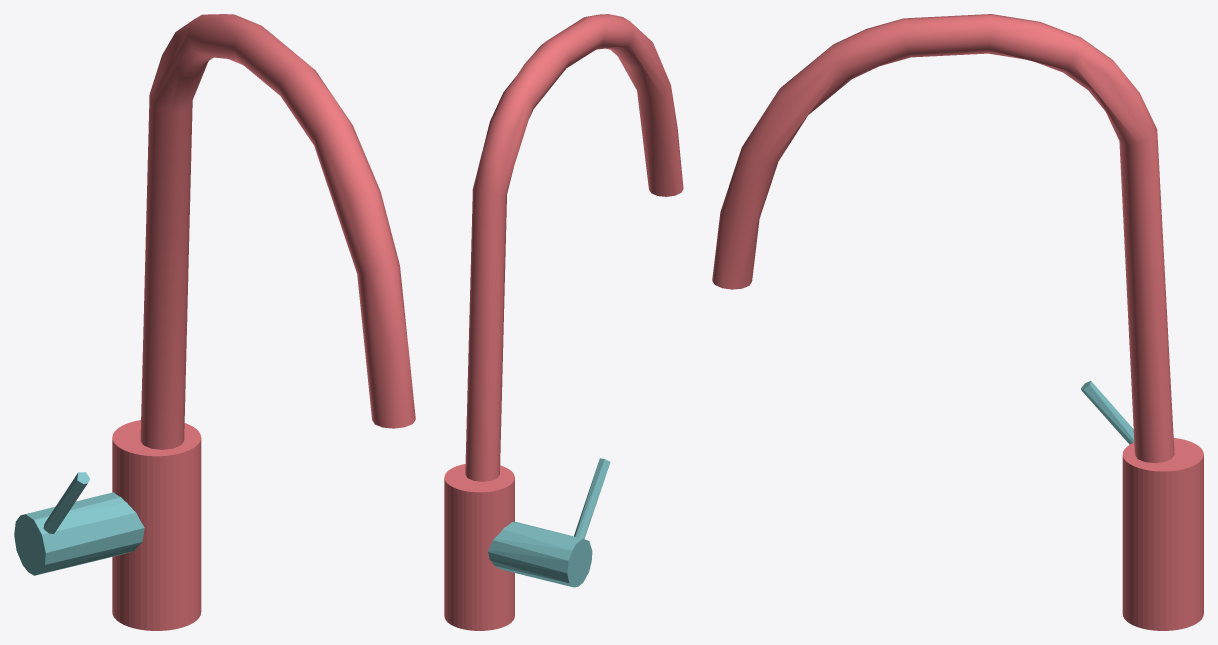
Rendered from Kran.fbx.
3 views of the same model, side by side, from view 1: azimuth 30°, elevation 25°; view 2: azimuth 150°, elevation 25°; view 3: azimuth 270°, elevation 25° (orthographic). The views are drawn at different scales.
Parts seen in each view (by area): view 1: Куб.001; view 2: Куб.001; view 3: Куб.001.
Boxes of the visible parts, x1,y1,x2,y2 form: Куб.001: [14, 14, 415, 630]; Куб.001: [444, 14, 683, 630]; Куб.001: [712, 14, 1203, 630].
Size of the model in its own units: 0.5225 by 1.98 by 1.48.
